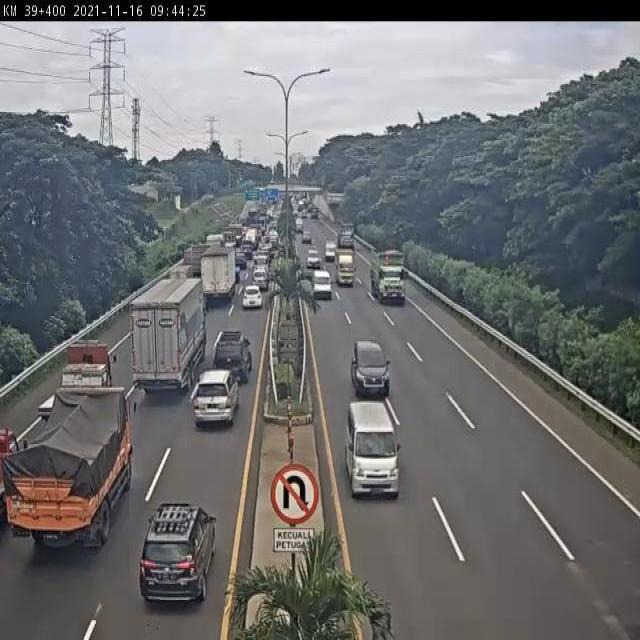car: (136, 496, 227, 616), (341, 394, 409, 506), (339, 331, 406, 398), (211, 310, 259, 390), (188, 366, 243, 434), (240, 281, 267, 316), (313, 268, 334, 299), (303, 244, 322, 271), (323, 236, 338, 264)
truck-l-: (122, 268, 209, 401), (369, 251, 410, 308), (335, 216, 361, 253)
truck-m-: (2, 373, 146, 555), (49, 335, 125, 404), (200, 243, 242, 309), (332, 246, 357, 290)
